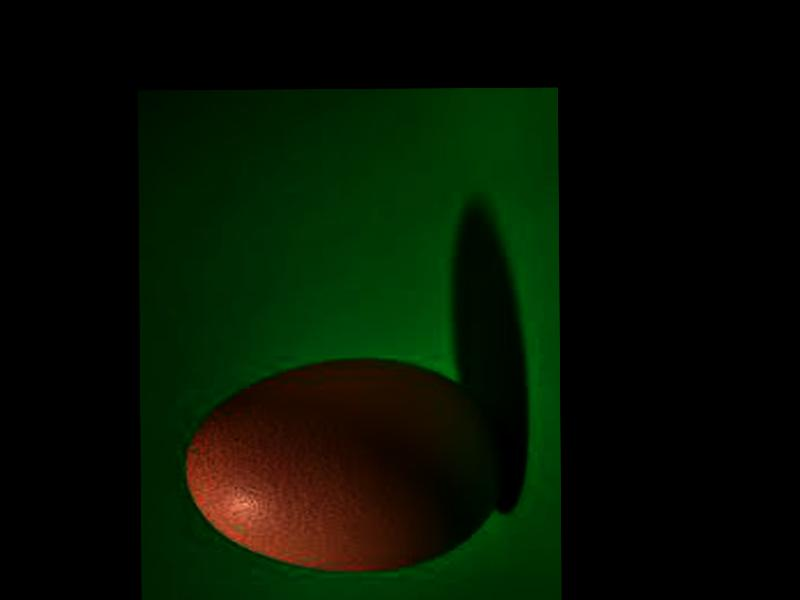Eggs: (186, 358, 506, 574)
